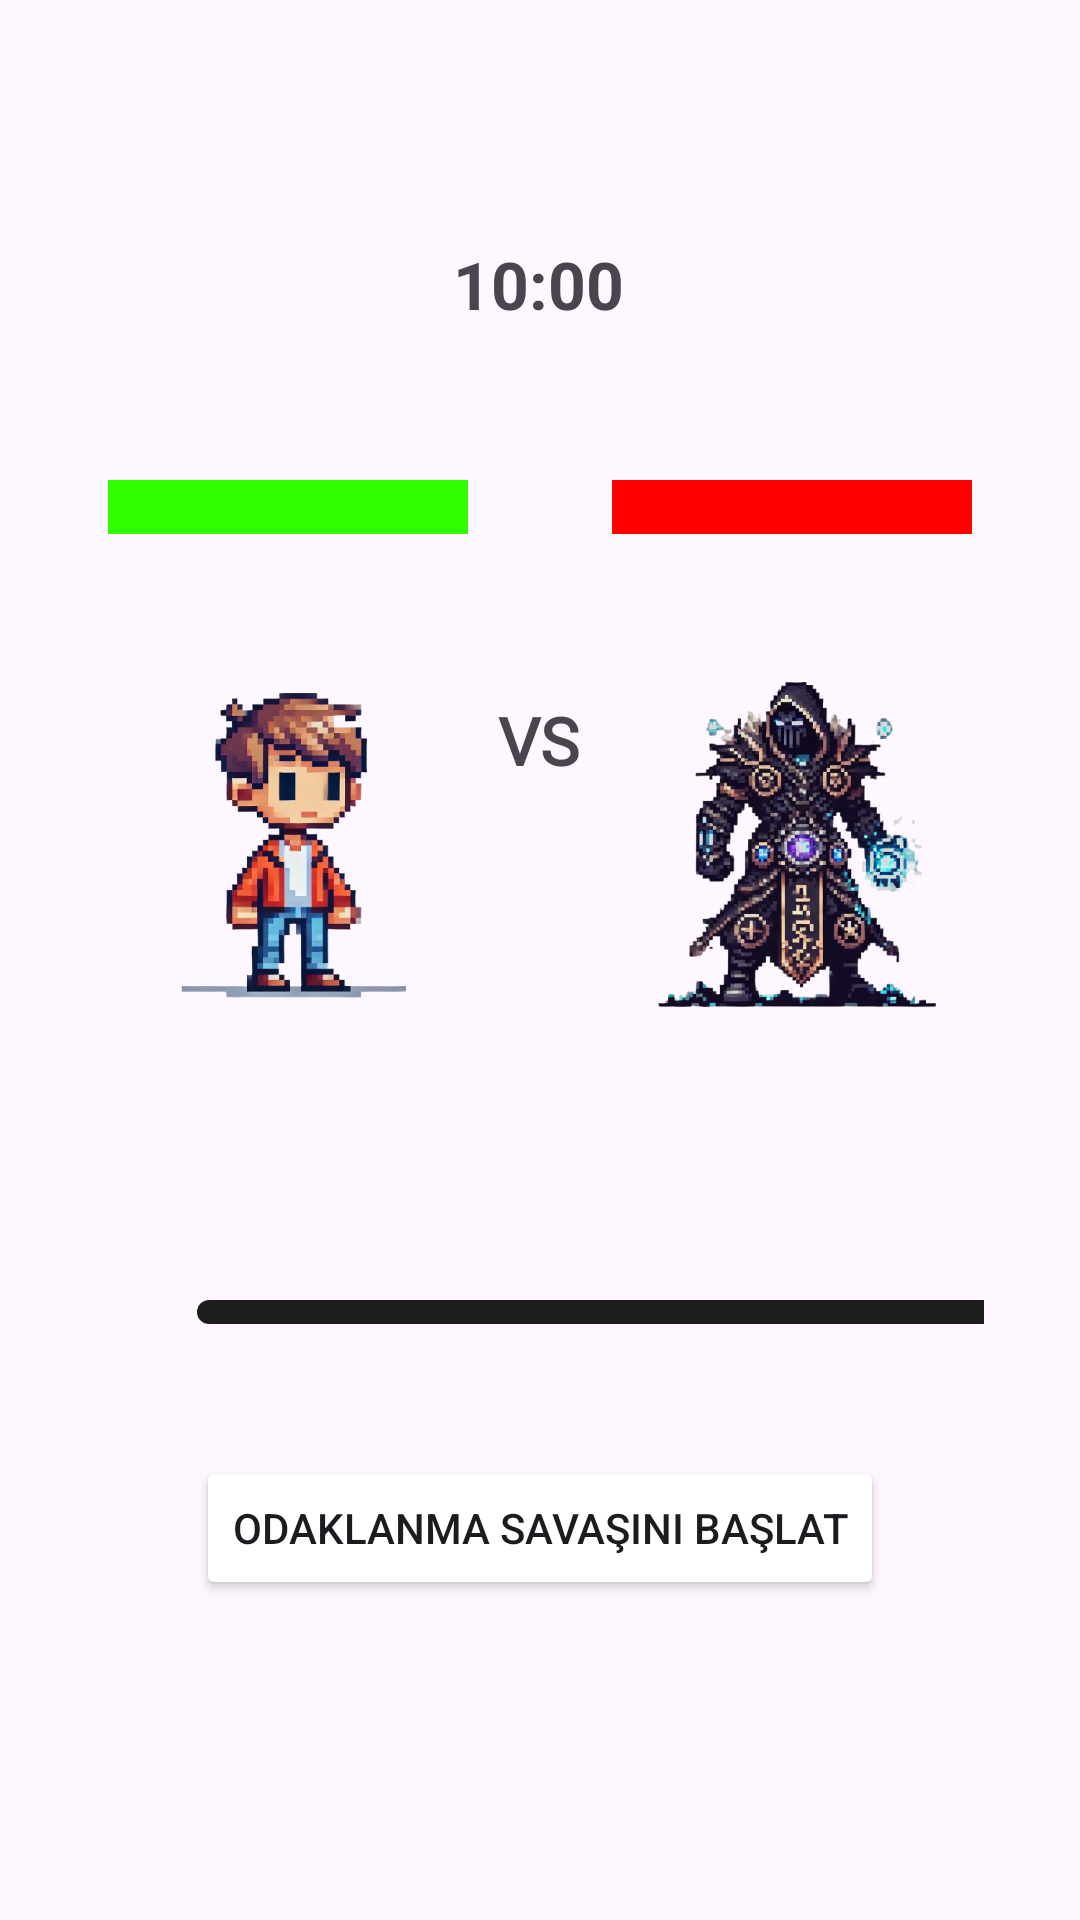

Where icons sit on this 1080 × 1920 app screen, as [x1=x1, y1=y1, x2=x2, y2=y2]:
firstboss: [x1=658, y1=682, x2=936, y2=1007]
